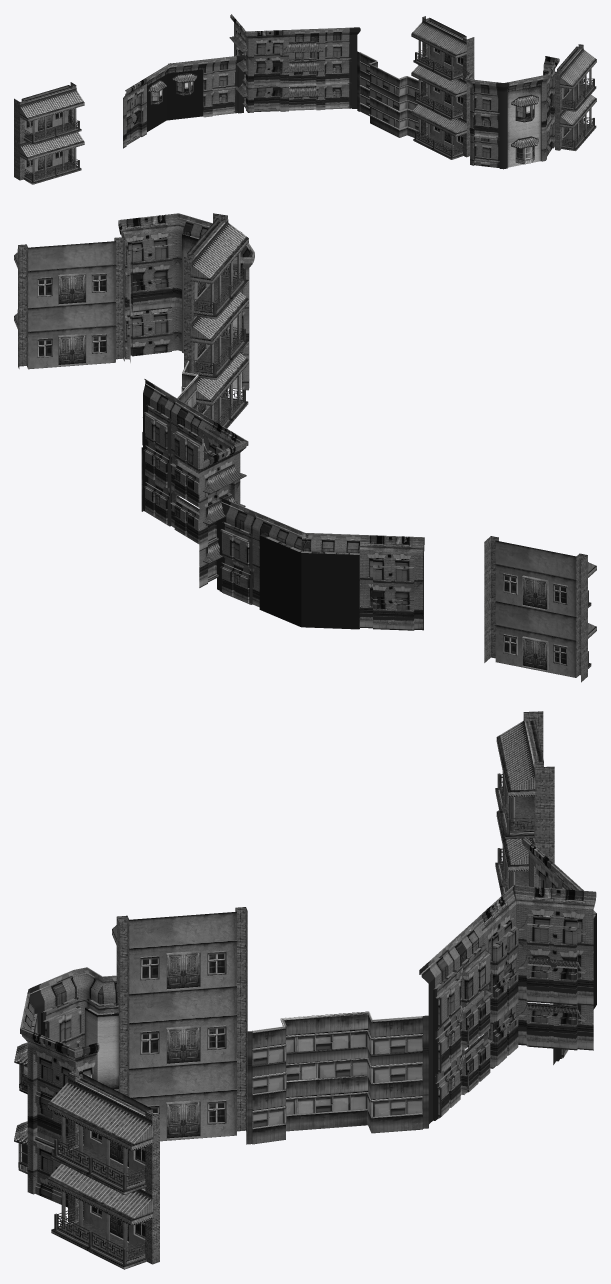
The model's file is chinatown_block_4.fbx.
The picture shows the model from 3 angles, top to bottom: view 1: azimuth 30°, elevation 25°; view 2: azimuth 150°, elevation 25°; view 3: azimuth 270°, elevation 25°; orthographic projection. The views are drawn at different scales.
Parts seen in each view (by area): view 1: chinatown_building_011, Plane182, Plane255, Plane264, chinatown_building_012, Plane300, Plane269, Plane268; view 2: Plane269, Plane264, chinatown_building_011, Plane268, Plane255, Plane182, chinatown_building_012, Plane300; view 3: Plane255, chinatown_building_011, Plane300, Plane269, Plane182, Plane264, Plane268.
Boxes of the visible parts, x1,y1,x2,y2 form: chinatown_building_011: (229, 14, 360, 112); Plane182: (465, 56, 559, 169); Plane255: (411, 16, 474, 159); Plane264: (14, 82, 84, 184); chinatown_building_012: (166, 55, 244, 120); Plane300: (357, 51, 422, 137); Plane269: (555, 44, 596, 150); Plane268: (123, 63, 170, 148); Plane269: (14, 237, 124, 369); Plane264: (484, 536, 596, 682); chinatown_building_011: (143, 379, 248, 587); Plane268: (301, 532, 424, 630); Plane255: (184, 213, 248, 437); Plane182: (118, 213, 254, 390); chinatown_building_012: (217, 497, 308, 626); Plane300: (141, 359, 198, 511); Plane255: (112, 907, 247, 1141); chinatown_building_011: (419, 885, 596, 1123); Plane300: (246, 1011, 428, 1144); Plane269: (47, 1070, 159, 1269); Plane182: (14, 967, 118, 1207); Plane264: (495, 711, 554, 895); Plane268: (522, 837, 596, 913).
Bounding box in the file's own units: 6620 × 1820 × 3706.
